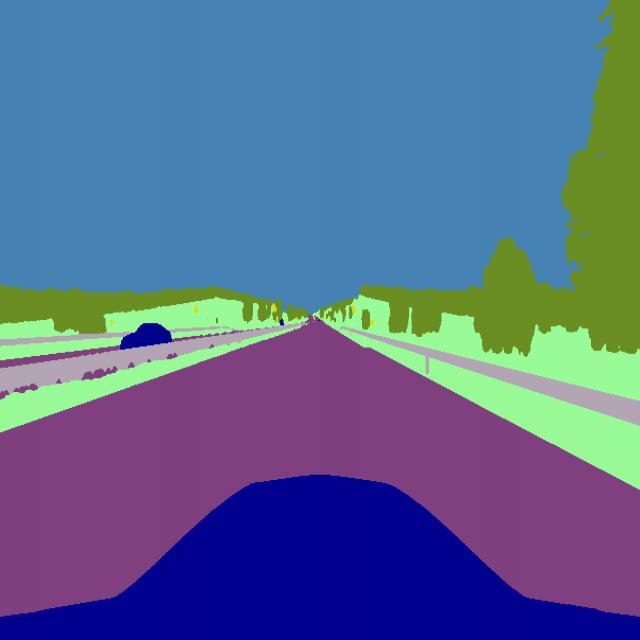safe: (120, 318, 174, 354)
